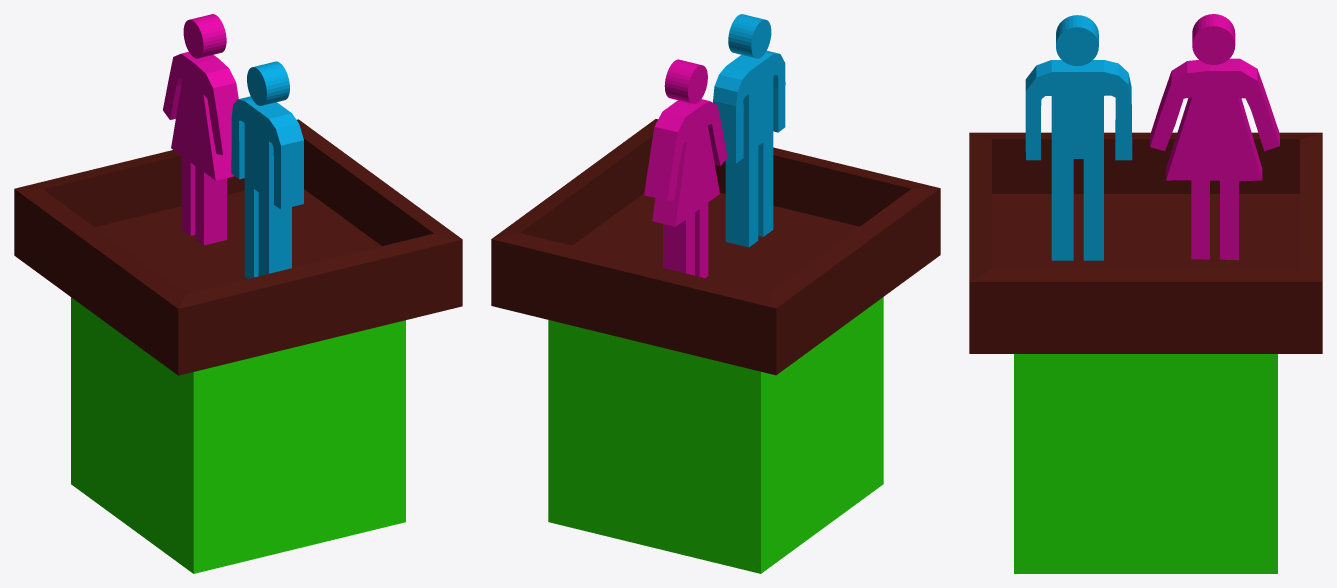
The model's file is washroom2.gltf.
3 views of the same model, side by side, from view 1: azimuth 30°, elevation 25°; view 2: azimuth 150°, elevation 25°; view 3: azimuth 270°, elevation 25° (orthographic). The views are drawn at different scales.
Parts seen in each view (by area): view 1: Cube, Circle.001; view 2: Cube, Circle.001; view 3: Cube, Circle.001.
Boxes of the visible parts, <box> form: Cube: <box>14,119,462,573</box>; Circle.001: <box>163,14,303,278</box>; Cube: <box>491,119,940,573</box>; Circle.001: <box>644,14,785,278</box>; Cube: <box>969,132,1322,573</box>; Circle.001: <box>1025,14,1279,260</box>.
Size of the model in its own units: 4.47 by 6.94 by 4.47.
